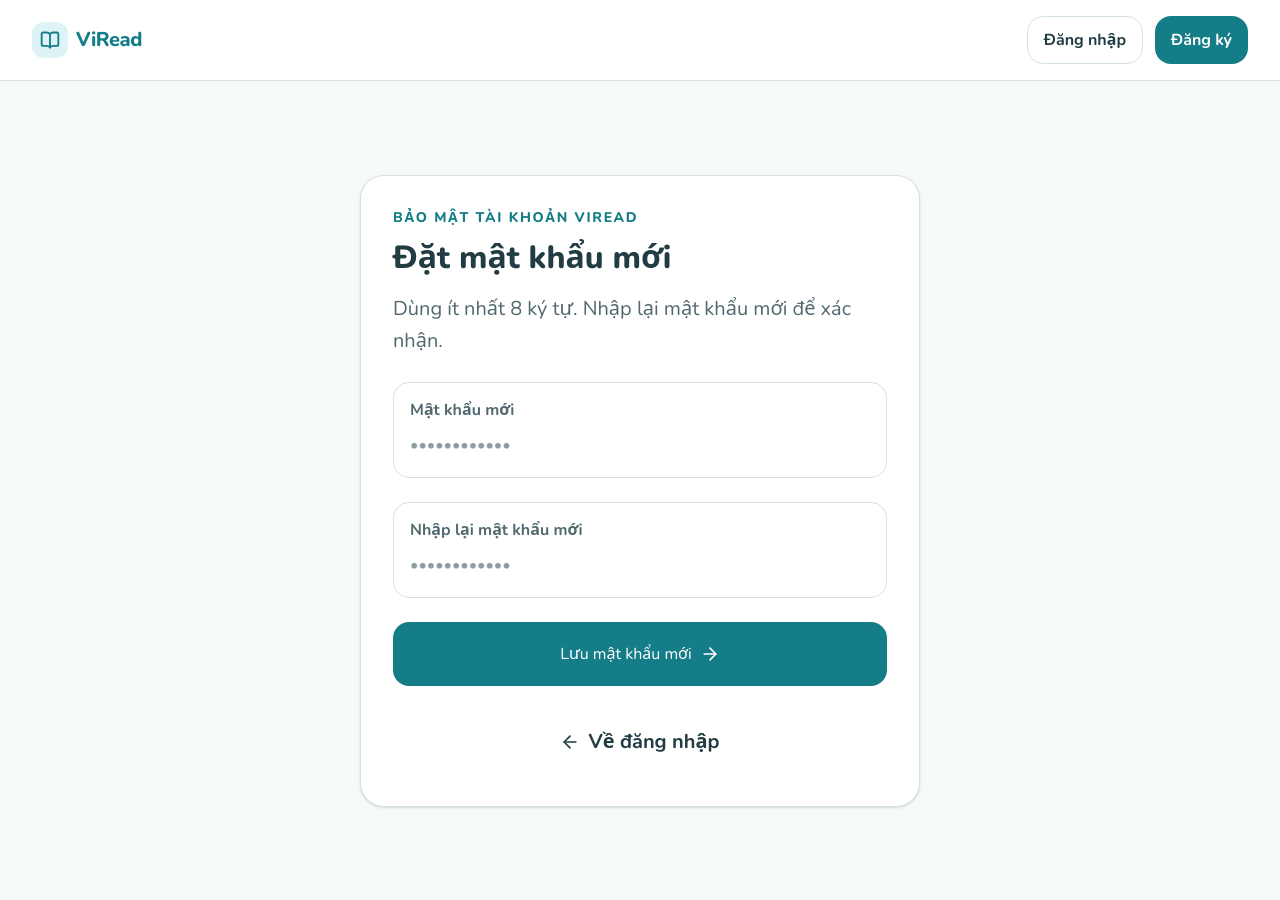
Test: ResetPasswordScreen › validates password confirmation at the matching field
This screenshot has width=1280, height=900.
In the password field labelled "Mật khẩu mới": (640, 445) [410,429,870,461], type "matkhau123"
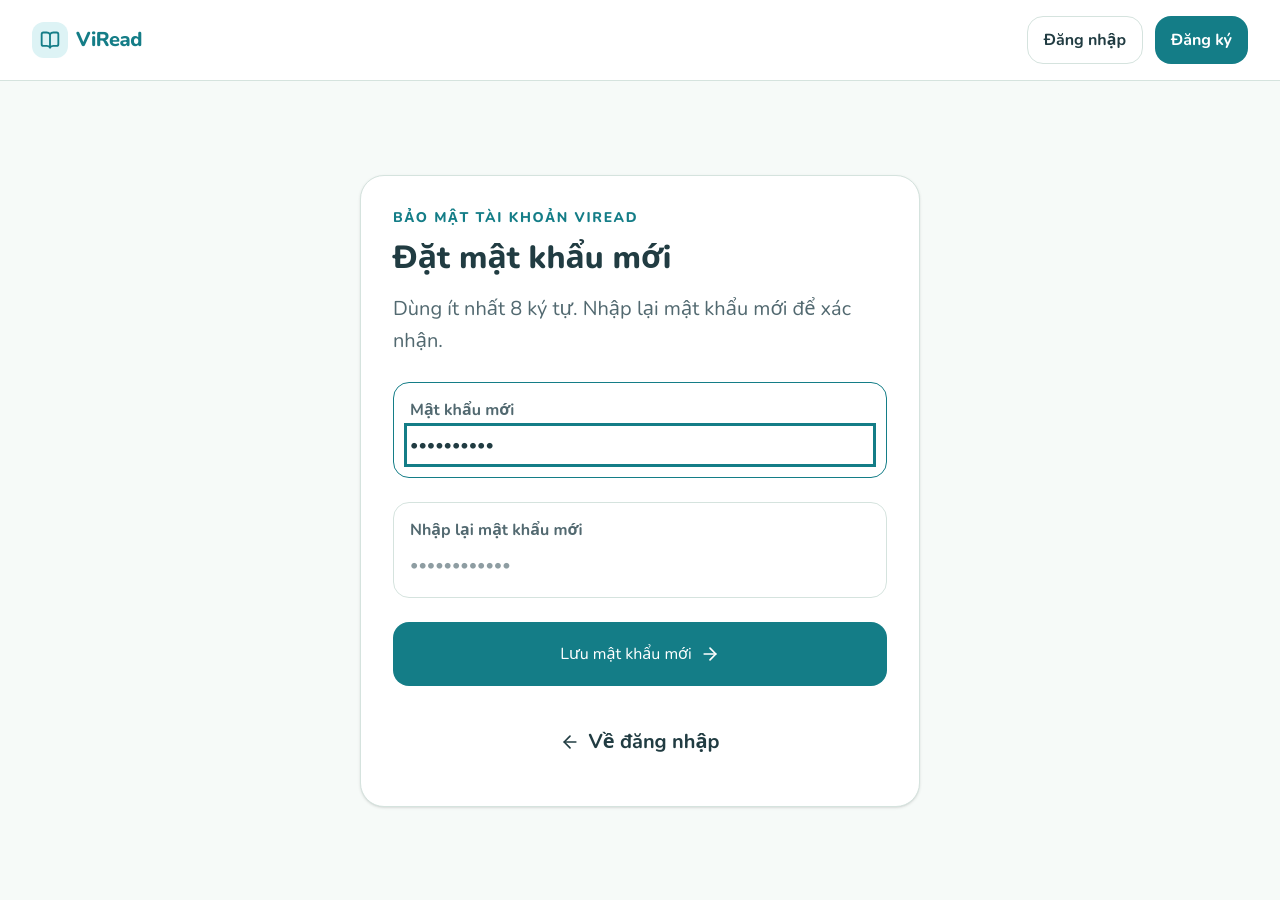
In the password field labelled "Nhập lại mật khẩu mới": (640, 565) [410,549,870,581], type "khacmatkhau"
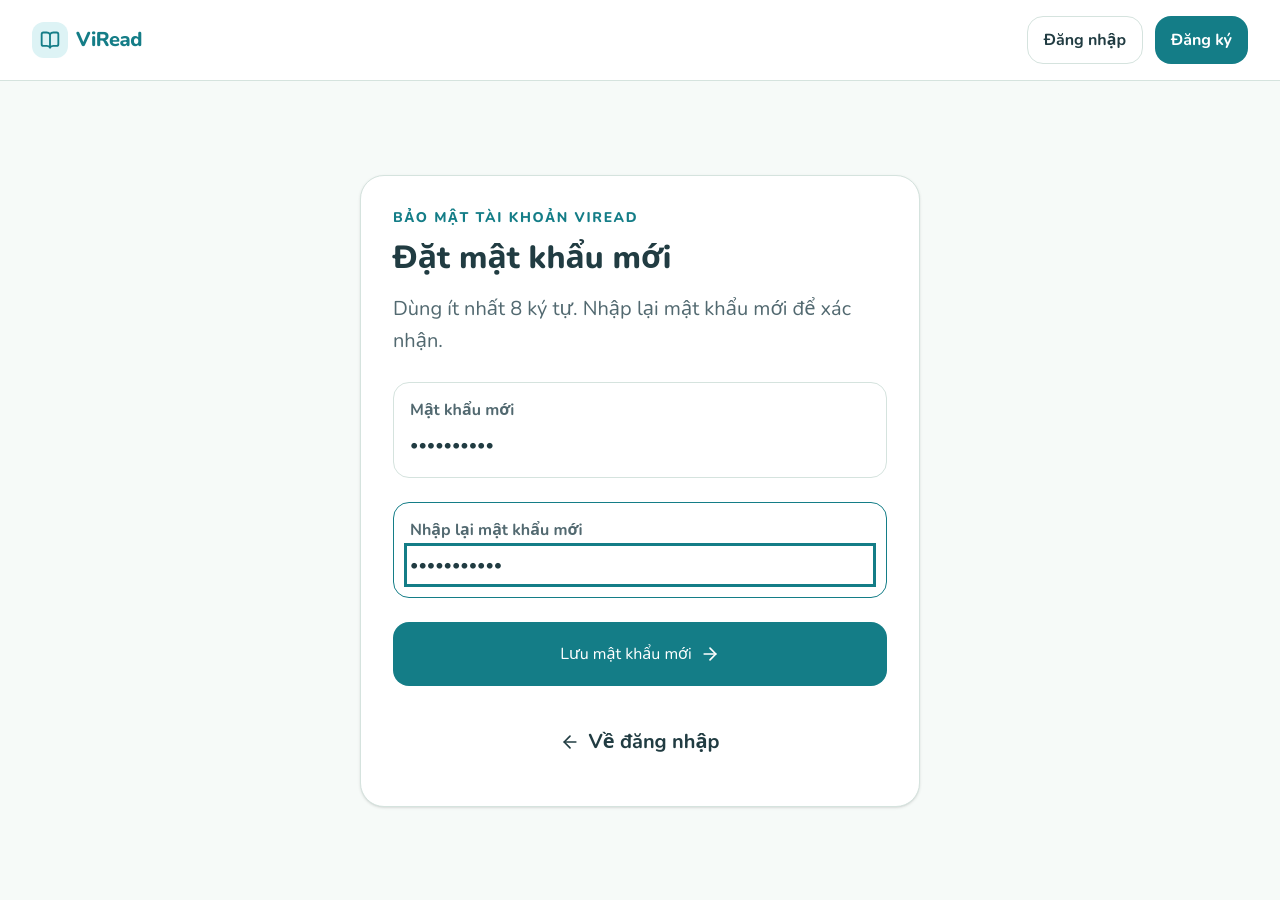
Click the button "Lưu mật khẩu mới": (640, 654) [393,622,887,686]
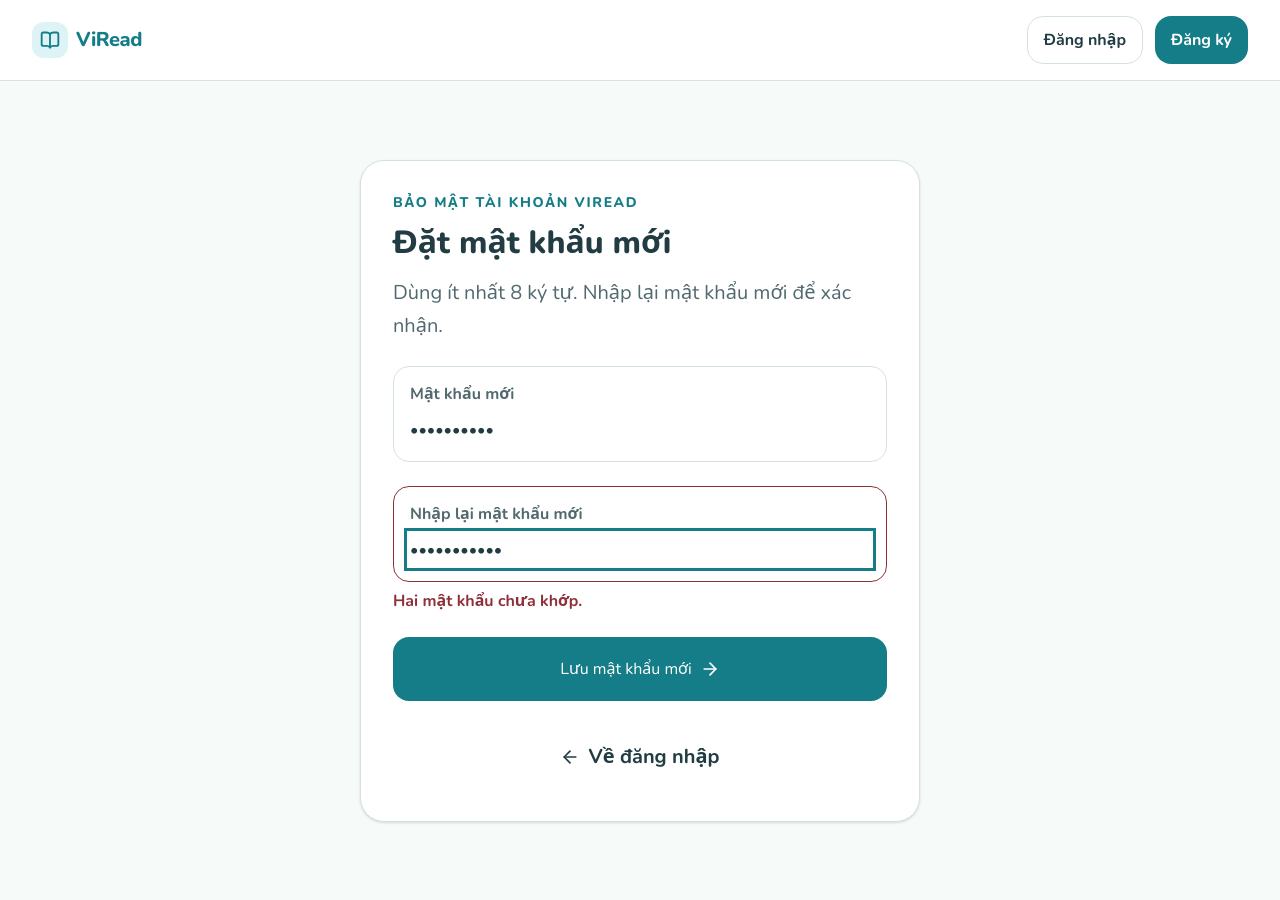
Expected: the text "Hai mật khẩu chưa khớp." is shown, [393,590,582,612]
